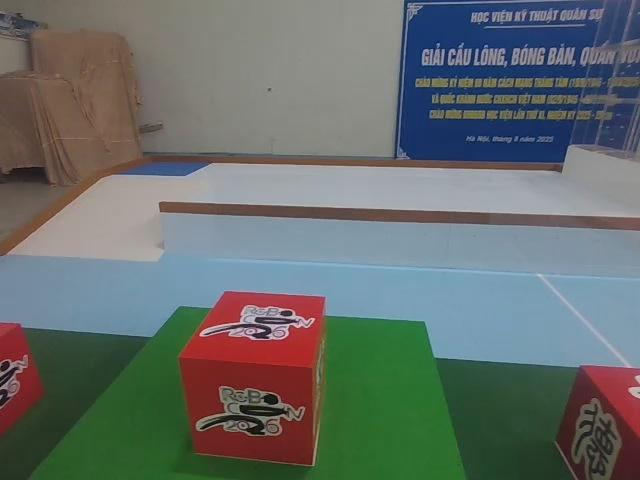R1: (177, 285, 327, 470)
R2 Fake: (550, 361, 640, 480)
